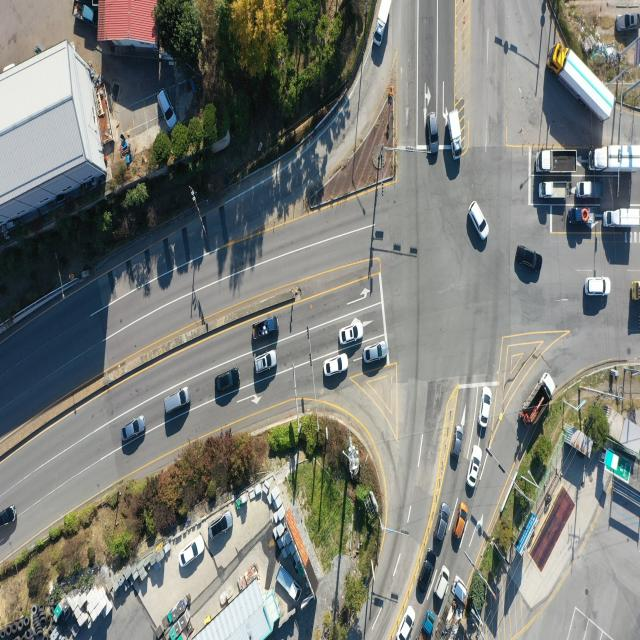car: (181, 534, 206, 566), (450, 500, 468, 544), (469, 203, 488, 242), (160, 88, 178, 129), (167, 385, 193, 413), (398, 605, 417, 640), (419, 554, 435, 594), (214, 369, 239, 394), (467, 444, 481, 486), (340, 324, 364, 348), (124, 416, 146, 442), (449, 424, 462, 468), (210, 514, 232, 540), (326, 355, 351, 377), (364, 343, 389, 365), (438, 503, 452, 542), (254, 350, 276, 374), (437, 565, 452, 600), (480, 386, 492, 428), (586, 277, 611, 297), (616, 12, 639, 32), (428, 112, 439, 153), (0, 504, 17, 529)
medium_truck: (548, 38, 613, 121), (522, 373, 558, 429), (438, 576, 468, 640), (589, 145, 640, 174), (539, 149, 578, 176), (606, 207, 640, 230)
small_bus: (631, 280, 640, 300)
small_truck: (370, 0, 392, 45), (276, 566, 300, 601), (448, 111, 464, 160), (516, 246, 543, 272), (540, 184, 572, 202), (72, 0, 95, 25), (577, 179, 605, 199), (254, 316, 278, 339), (568, 206, 593, 225), (418, 612, 434, 640)
